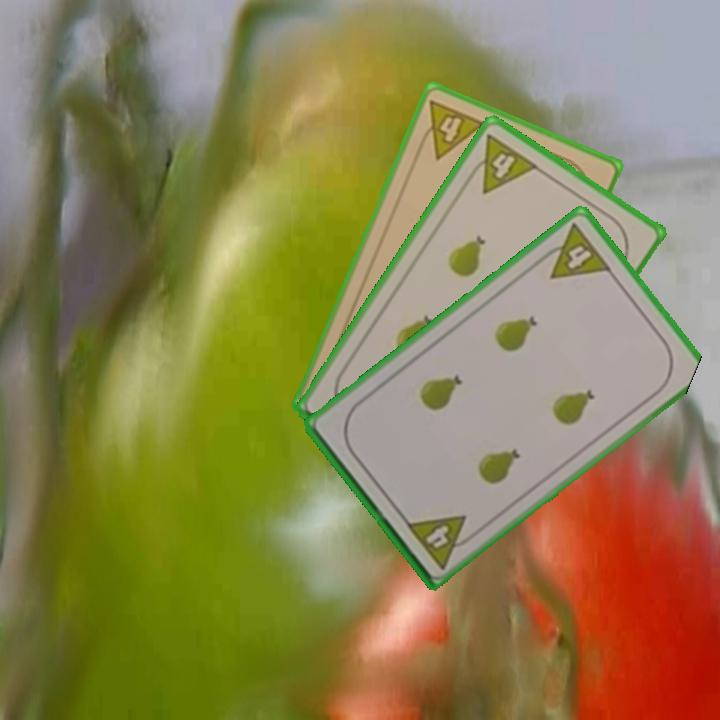4p: (462, 130, 541, 197), (534, 219, 614, 282), (413, 96, 489, 162), (402, 510, 480, 572)
